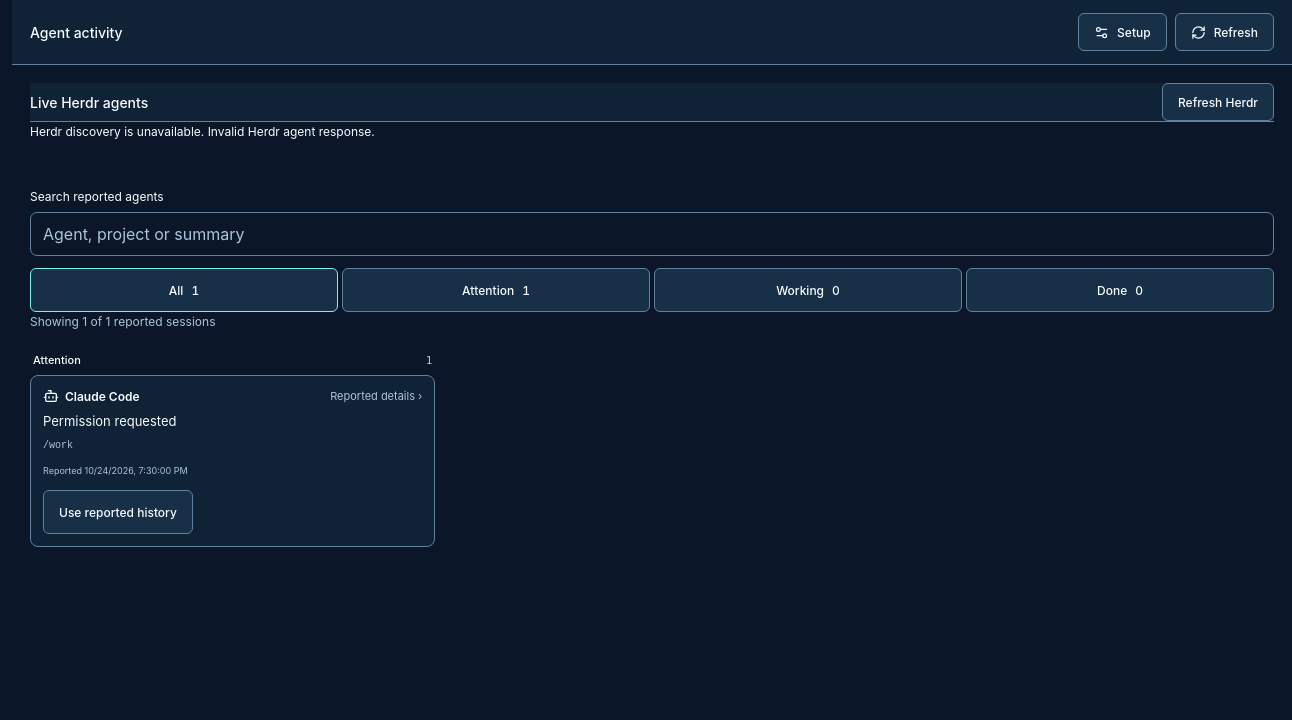
Test case: keeps old companion/raw failures verbatim with a static manual hint: old companion: unrecognized arguments: reported-history
Click the button "Use reported history".
click(118, 512)  # box [43,490,193,534]
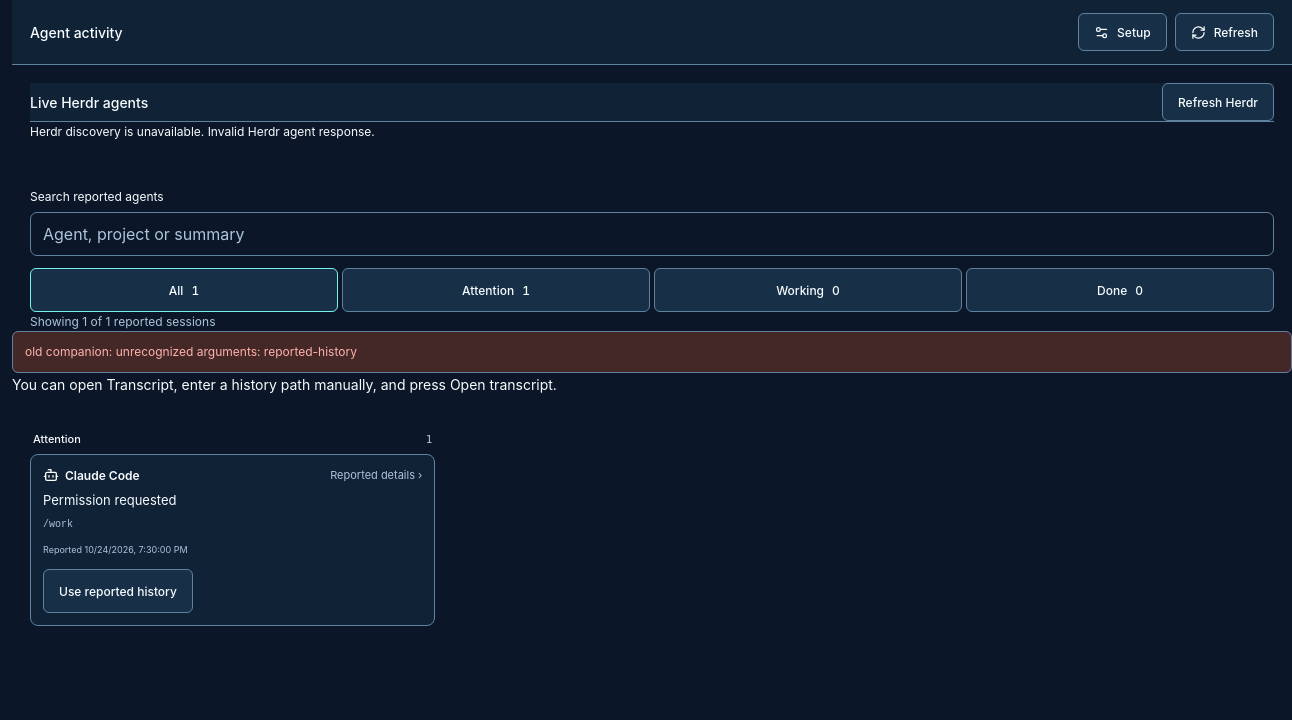
Check: the message "old companion: unrecognized arguments: reported-history" is shown, box [12,331,1291,373]
Check: the text "You can open Transcript, enter a history path manually, and press Open transcript." is shown, box [12,376,557,393]
Click the button "Setup".
click(1122, 32)  # box [1078,13,1167,51]
(page scrolled)
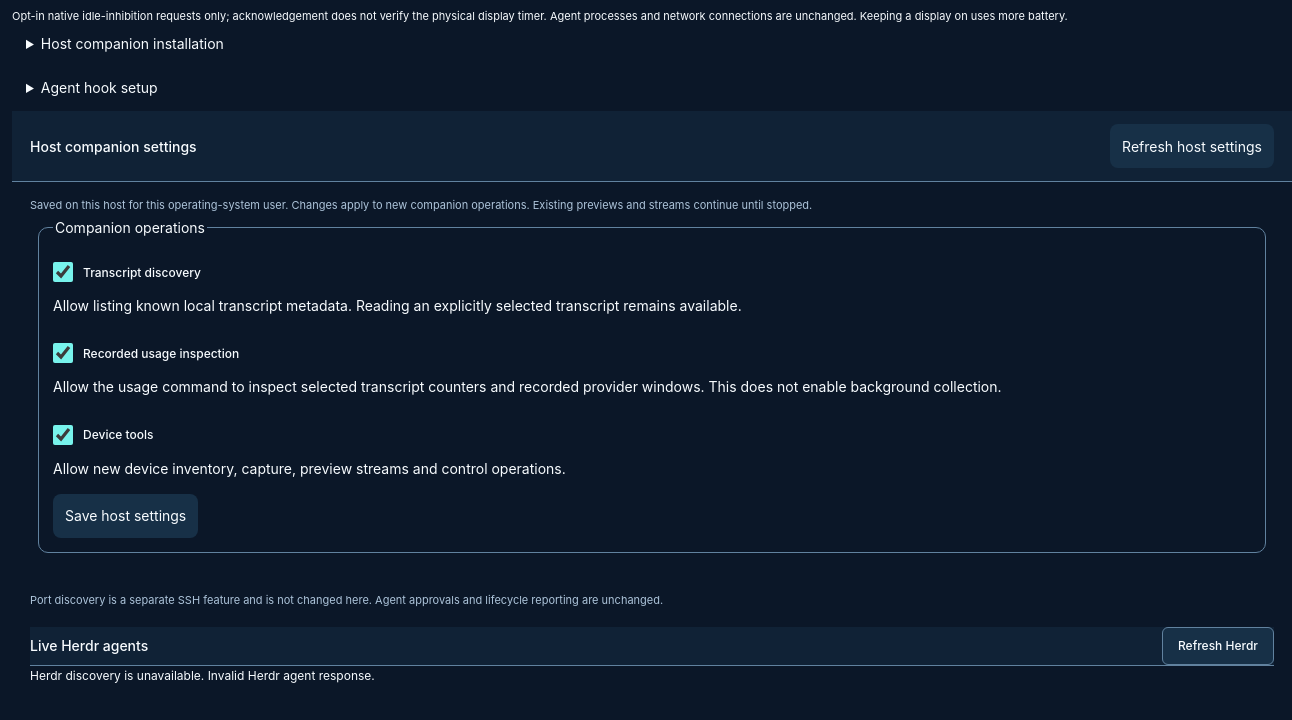
Check: the element "Host companion settings" is shown
